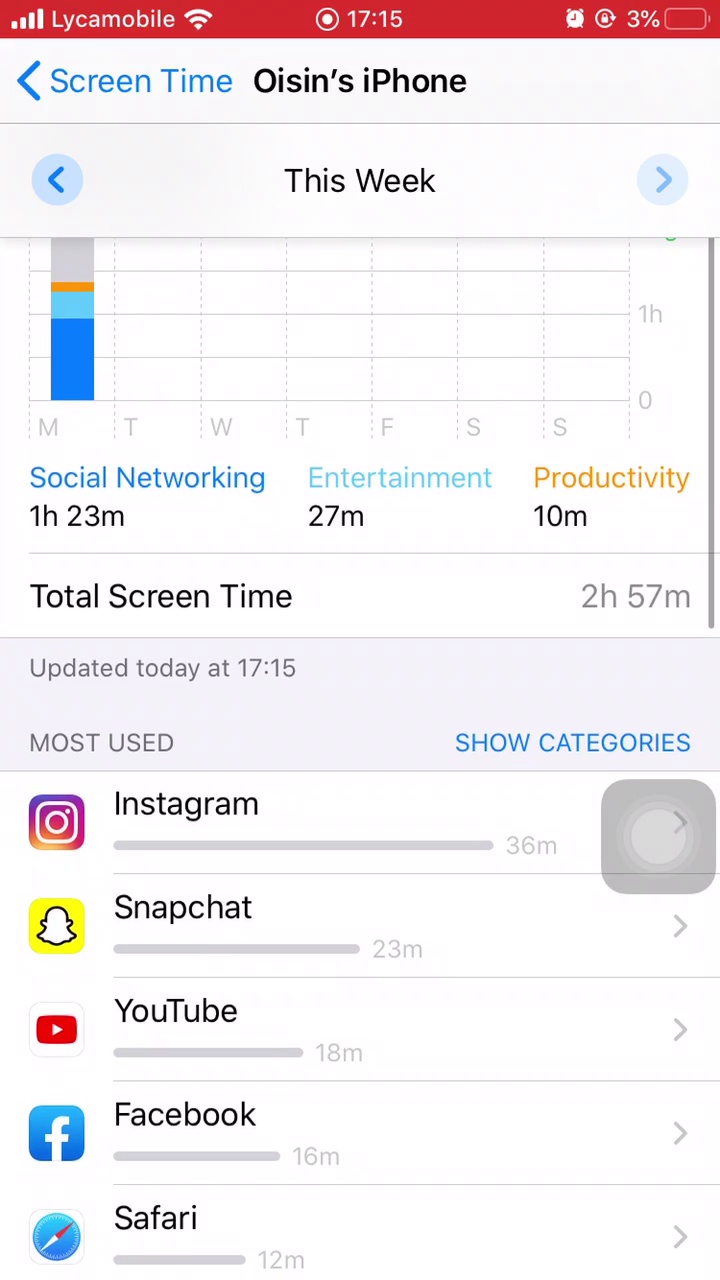use_over: (23, 458, 700, 624)
week: (262, 150, 462, 209)
